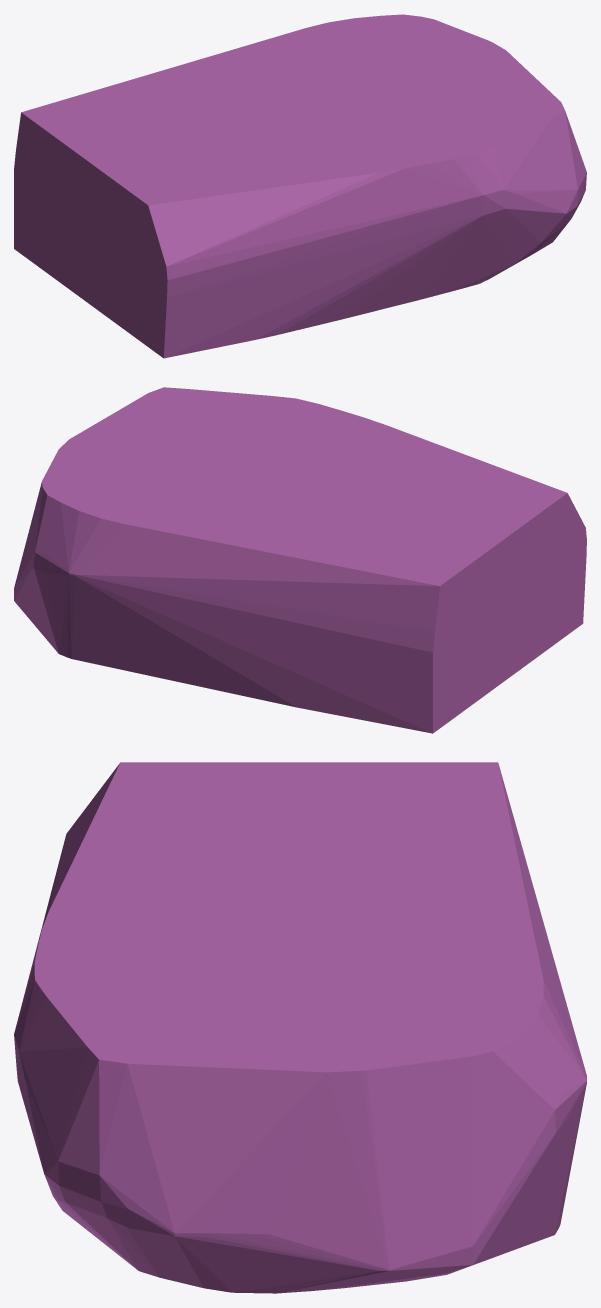
3 renders of one model, top to bottom at view 1: azimuth 30°, elevation 25°; view 2: azimuth 150°, elevation 25°; view 3: azimuth 270°, elevation 25°, orthographic. The views are drawn at different scales.
Size of the model in its own units: 0.0582 by 0.0175 by 0.043.
